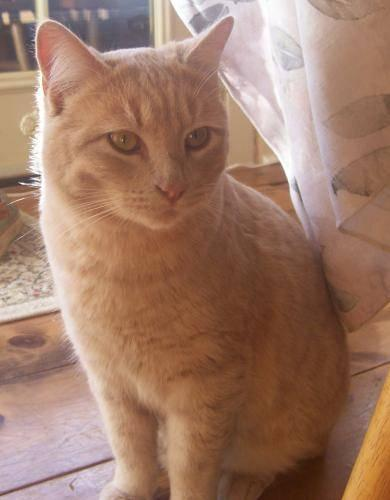cat: (37, 19, 347, 499)
